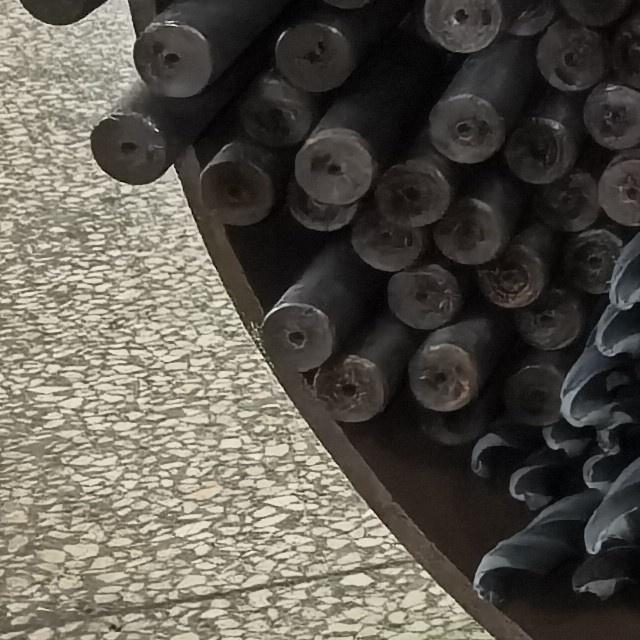tool: (434, 167, 533, 263), (272, 14, 359, 93), (290, 125, 377, 203), (132, 22, 212, 98), (91, 114, 171, 186), (372, 155, 451, 227), (428, 93, 506, 165), (197, 159, 275, 228), (237, 76, 312, 146), (508, 112, 576, 186), (407, 0, 504, 51), (262, 303, 332, 372), (536, 18, 604, 89), (311, 355, 385, 419), (351, 211, 426, 273), (388, 264, 460, 328), (408, 345, 478, 408), (520, 286, 584, 352), (283, 178, 358, 234), (534, 167, 598, 230), (481, 246, 547, 306), (583, 78, 640, 146), (562, 226, 621, 288), (508, 365, 568, 424), (600, 152, 640, 228), (417, 400, 485, 442), (609, 3, 640, 86), (552, 0, 637, 25), (498, 0, 555, 36), (19, 0, 85, 23)
tool_b: (464, 545, 535, 605), (566, 561, 629, 612), (581, 502, 638, 554), (505, 460, 554, 514), (587, 311, 640, 359), (558, 369, 602, 426), (463, 426, 509, 478), (613, 233, 640, 310), (541, 421, 585, 462), (578, 451, 613, 498), (600, 404, 631, 454)
